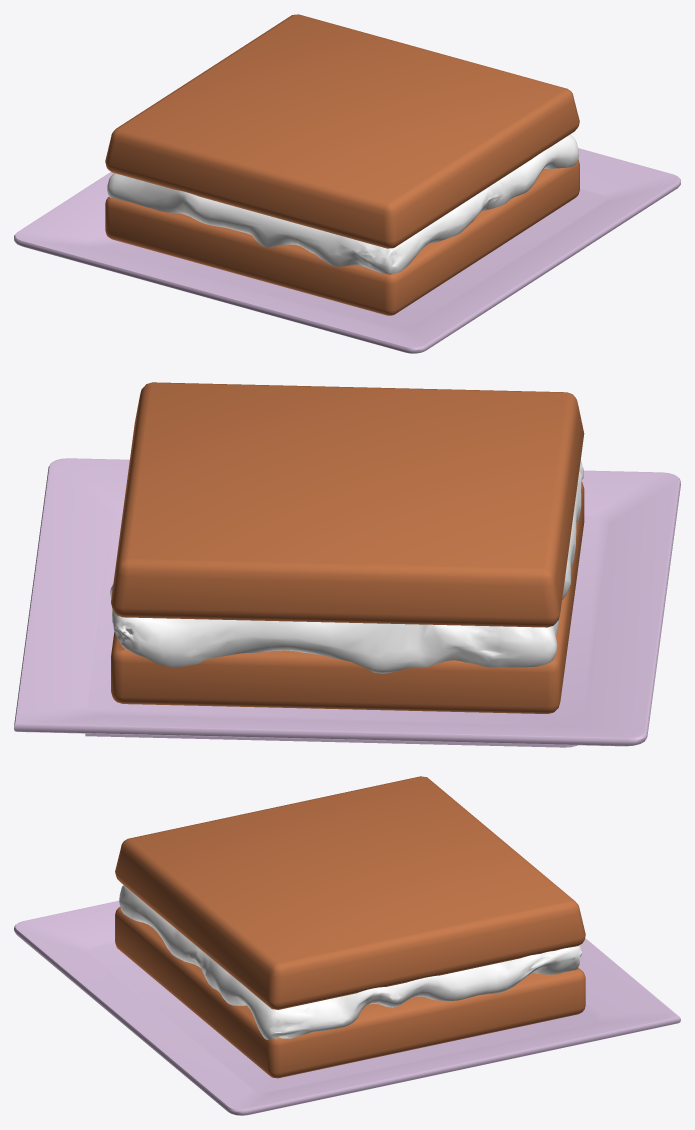
The model's file is cake_layer_2b.glb.
3 views of the same model, one above another, from view 1: azimuth 30°, elevation 25°; view 2: azimuth 150°, elevation 25°; view 3: azimuth 270°, elevation 25° (orthographic). The views are drawn at different scales.
Parts seen in each view (by area): view 1: layers_base.007, layers_dish, layers_details.009; view 2: layers_base.007, layers_dish, layers_details.009; view 3: layers_base.007, layers_dish, layers_details.009.
Part boxes in pixels (x1,y1,x2,y2): layers_base.007: (105, 14, 579, 315); layers_dish: (14, 148, 680, 353); layers_details.009: (107, 134, 578, 274); layers_base.007: (111, 382, 584, 713); layers_dish: (14, 458, 680, 747); layers_details.009: (110, 460, 583, 673); layers_base.007: (115, 776, 585, 1078); layers_dish: (14, 900, 680, 1115); layers_details.009: (119, 885, 581, 1039).
Bounding box in the file's own units: 6.41 × 1.39 × 6.46.
